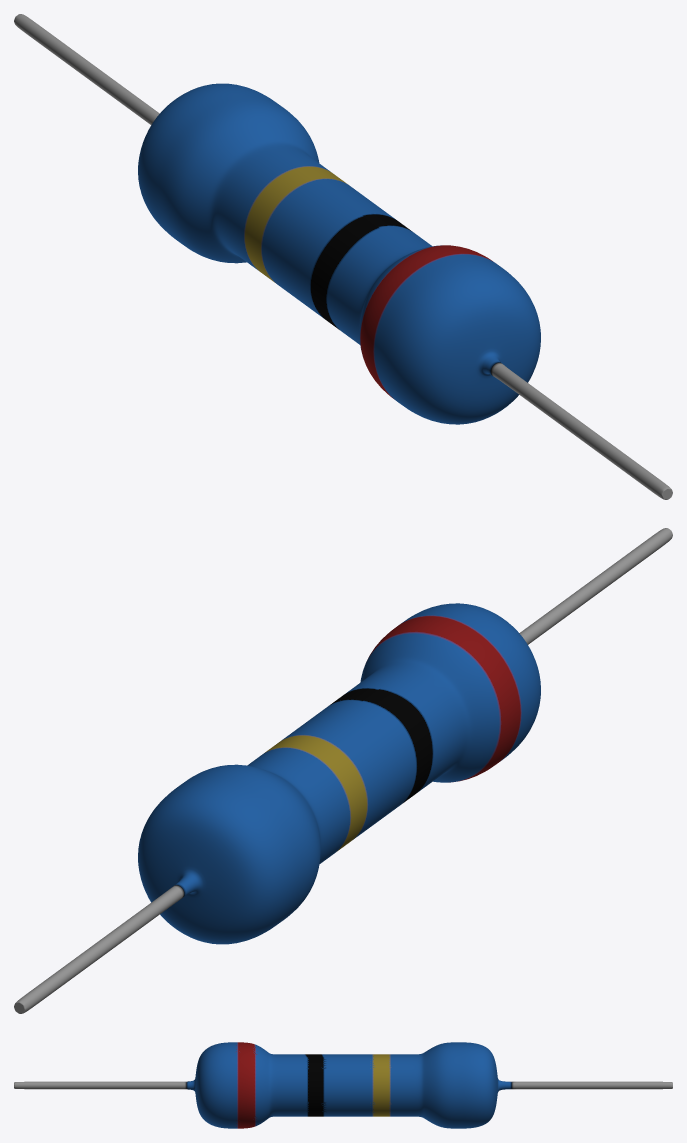
Rendered from resistor.glb.
The picture shows the model from 3 angles, top to bottom: view 1: azimuth 30°, elevation 25°; view 2: azimuth 150°, elevation 25°; view 3: azimuth 270°, elevation 25°; orthographic projection. The views are drawn at different scales.
Visible parts, largest first — view 1: Cylinder.004; view 2: Cylinder.004; view 3: Cylinder.004.
Part boxes in pixels (bbox=[...]): Cylinder.004: bbox=[14, 14, 672, 499]; Cylinder.004: bbox=[14, 528, 672, 1013]; Cylinder.004: bbox=[14, 1042, 672, 1128].
Size of the model in its own units: 0.0105 by 0.0105 by 0.0802.
1 material, 1 textured.
